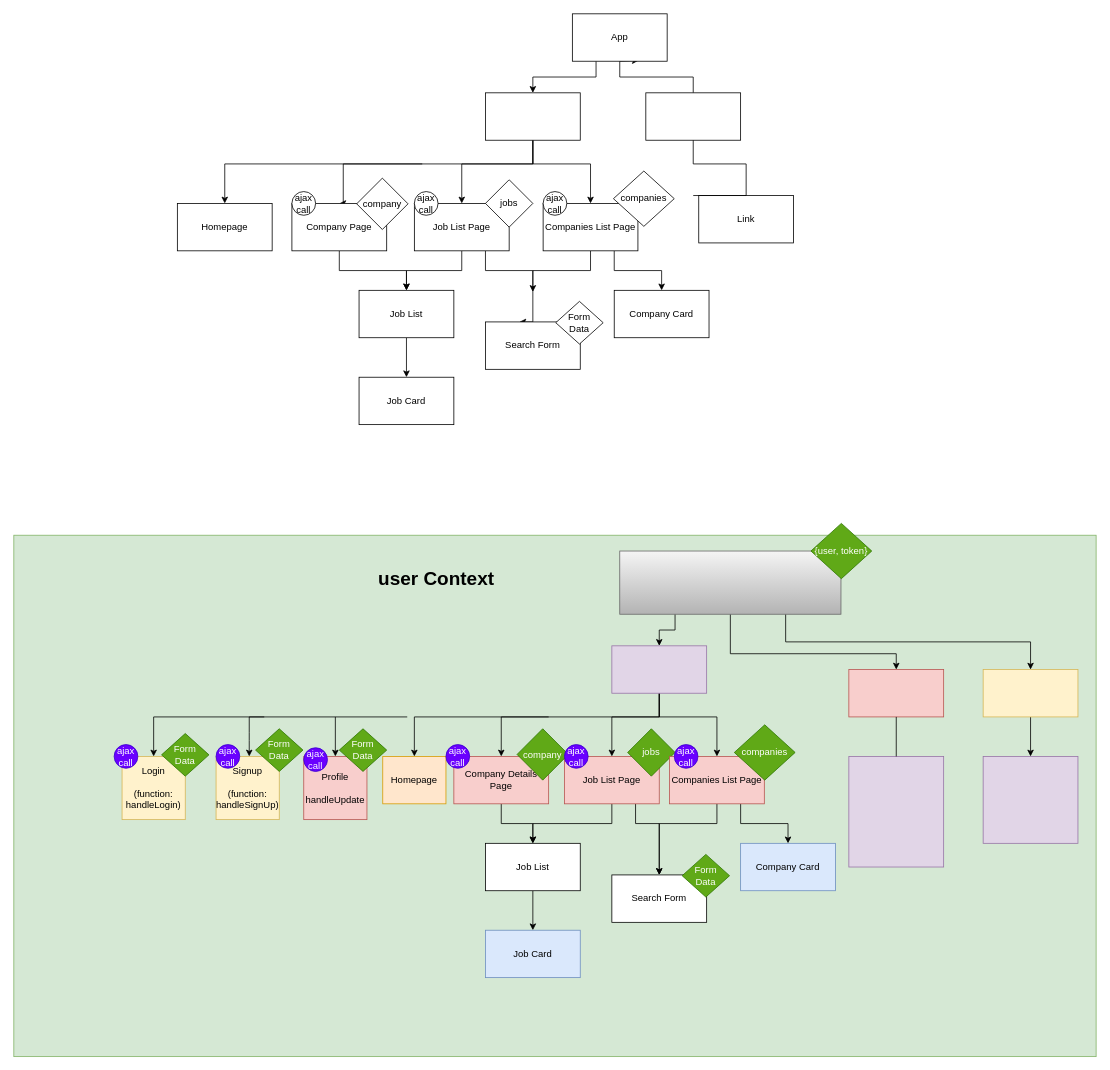
The diagram is 1110 pixels wide and 1070 high, and some of its shapes have lost their labels. Here are the shapes that lost their labels. From the top down, the centre of each, then its label:
At point 532,116: "Route List".
At point 693,116: "navbar".
At point 730,582: "App (functions: useEffect, login, signUp, updateUser".
At point 659,669: "Route List (pages + logout)".
At point 896,693: "navbar (logged In)".
At point 1030,693: "navbar (logged Out)".
At point 896,811: "Links -Homepage -CompanyPage -JobListPage -Profile -Logout".
At point 1030,799: "Links -Login -Singup -Homepage".
